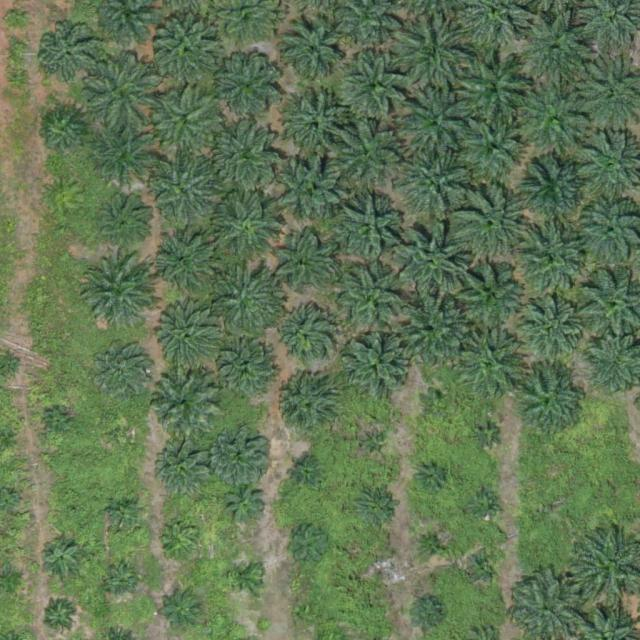Healthy: (518, 13, 596, 92), (388, 16, 466, 95), (82, 53, 160, 132), (78, 253, 156, 332), (334, 262, 412, 341), (398, 84, 476, 163), (397, 142, 475, 221), (394, 227, 472, 306), (394, 299, 472, 378), (454, 46, 532, 125), (457, 107, 535, 186), (454, 183, 532, 262), (448, 254, 526, 333), (512, 80, 590, 159), (210, 263, 288, 341), (282, 92, 353, 163), (514, 366, 585, 437), (519, 225, 590, 296), (278, 16, 348, 87), (154, 17, 224, 88), (341, 51, 411, 122), (151, 302, 221, 373), (147, 367, 217, 438), (212, 120, 282, 191), (212, 191, 282, 262), (273, 152, 343, 223), (332, 122, 402, 193), (333, 192, 403, 263), (344, 334, 415, 404), (512, 292, 582, 363), (521, 155, 592, 225), (215, 49, 285, 119), (152, 90, 222, 160), (91, 122, 161, 192), (150, 157, 220, 227), (456, 334, 526, 404), (90, 340, 153, 403), (272, 233, 335, 296), (272, 376, 335, 439), (37, 25, 100, 87), (155, 233, 217, 296), (216, 340, 278, 403), (274, 306, 336, 369), (213, 424, 275, 487), (158, 445, 213, 500), (98, 193, 152, 248), (41, 108, 88, 156), (295, 463, 319, 486)
Small: (284, 522, 331, 569), (162, 592, 202, 631), (357, 489, 396, 529), (105, 495, 145, 534), (226, 483, 265, 523), (41, 538, 80, 577), (408, 595, 447, 634), (162, 523, 201, 562), (230, 561, 261, 593), (418, 527, 449, 559), (46, 602, 77, 633), (105, 565, 136, 596), (416, 460, 447, 491), (470, 551, 501, 582), (472, 420, 503, 451), (470, 490, 501, 521), (357, 430, 388, 461), (421, 386, 452, 417), (297, 603, 321, 627), (6, 10, 29, 34), (113, 424, 137, 447), (48, 412, 71, 436), (67, 505, 83, 521), (374, 561, 389, 577)
